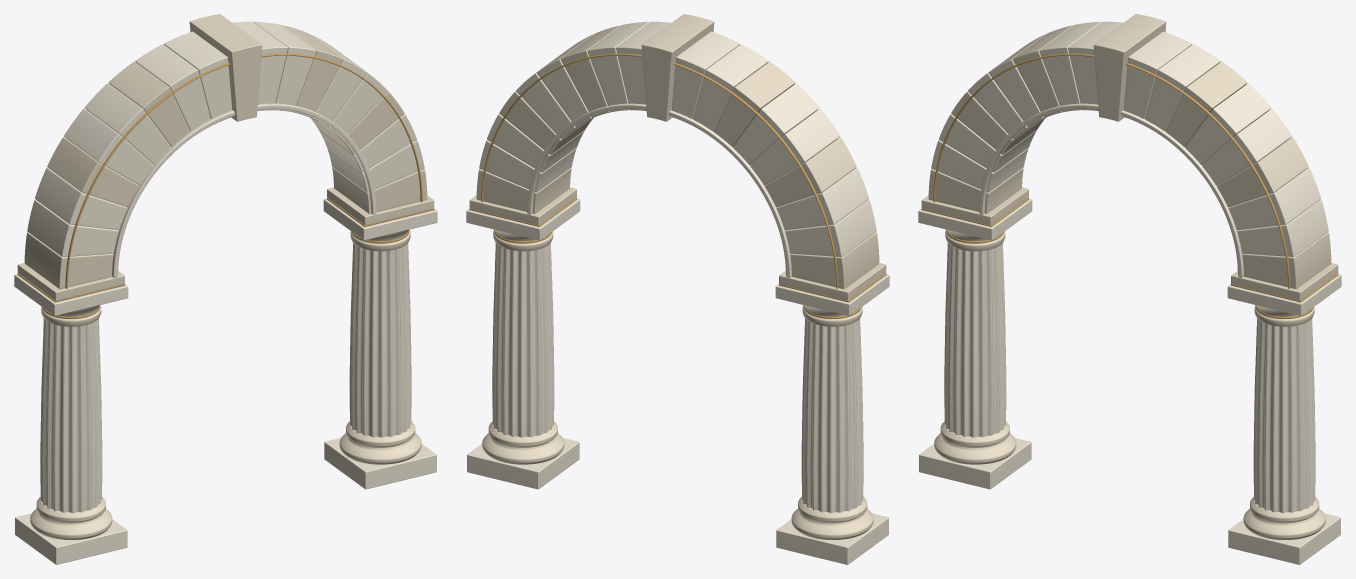
File: limestone-portal.glb
The picture shows the model from 3 angles, left to right: view 1: azimuth 30°, elevation 25°; view 2: azimuth 150°, elevation 25°; view 3: azimuth 330°, elevation 25°; orthographic projection.
Parts seen in each view (by area): view 1: Square foot.002; view 2: Square foot.002; view 3: Square foot.002.
Boxes of the visible parts, x1,y1,x2,y2 form: Square foot.002: (14,14,437,564); Square foot.002: (466,14,889,564); Square foot.002: (918,14,1341,564).
Bounding box in the file's own units: 4.96 × 5.82 × 0.95.
